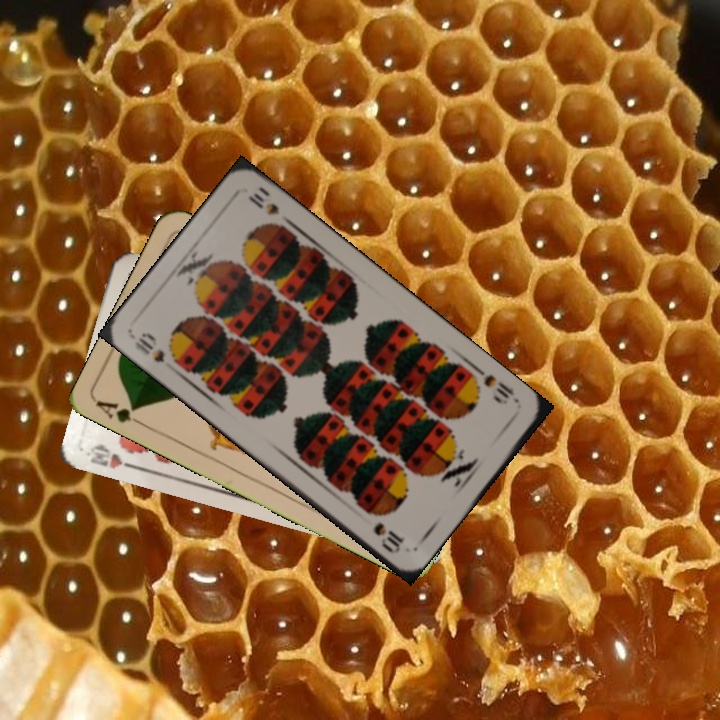GA: (92, 396, 149, 430)
H10: (82, 440, 140, 472)
S10: (479, 370, 522, 406), (130, 328, 168, 366)
